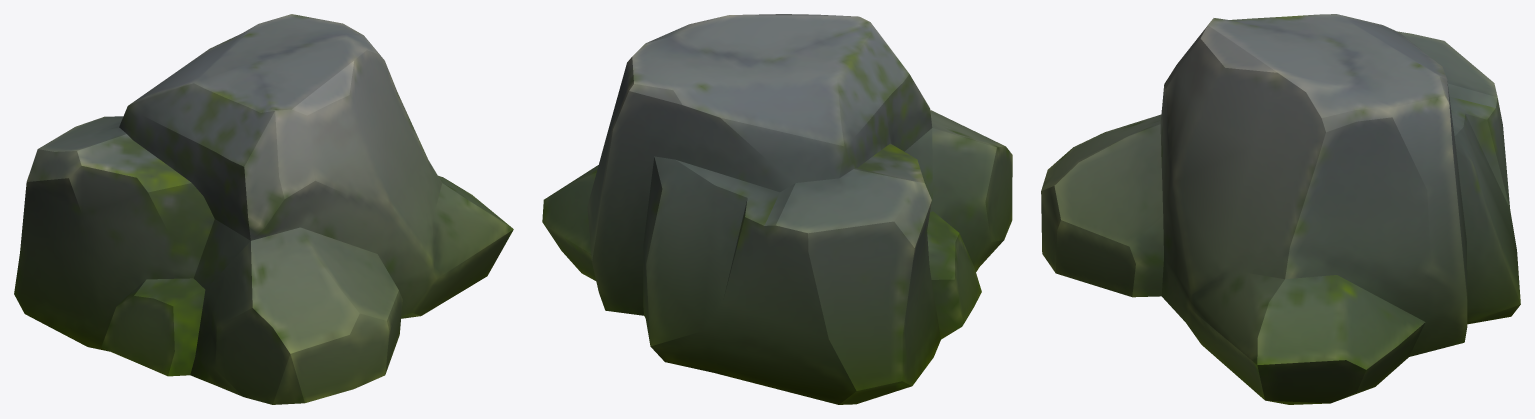
File: nature_rock_medium_4.glb
3 renders of one model, left to right at view 1: azimuth 30°, elevation 25°; view 2: azimuth 150°, elevation 25°; view 3: azimuth 270°, elevation 25°, orthographic. The views are drawn at different scales.
Visible parts, largest first — view 1: nature_rock_medium_4; view 2: nature_rock_medium_4; view 3: nature_rock_medium_4.
Boxes of the visible parts, left/top/right/bottom form: nature_rock_medium_4: left=14, top=14, right=513, bottom=404; nature_rock_medium_4: left=542, top=14, right=1012, bottom=404; nature_rock_medium_4: left=1041, top=14, right=1520, bottom=404.
Size of the model in its own units: 378 by 248 by 361.
1 material, 1 textured.
